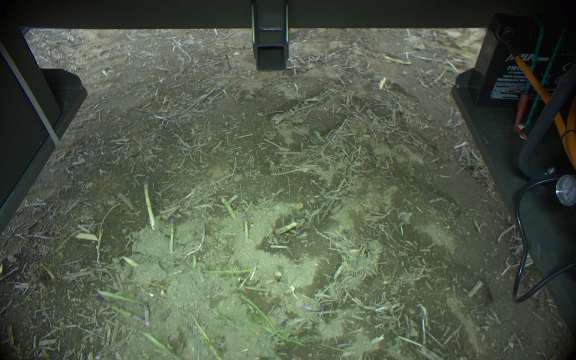aspa: (239, 294, 299, 345), (93, 295, 146, 325), (190, 313, 221, 360), (142, 328, 184, 360), (95, 286, 149, 306), (142, 180, 157, 230), (262, 318, 287, 341), (201, 266, 259, 275), (300, 300, 329, 316), (219, 196, 236, 221), (274, 220, 298, 234), (242, 209, 252, 242), (168, 214, 176, 255)
